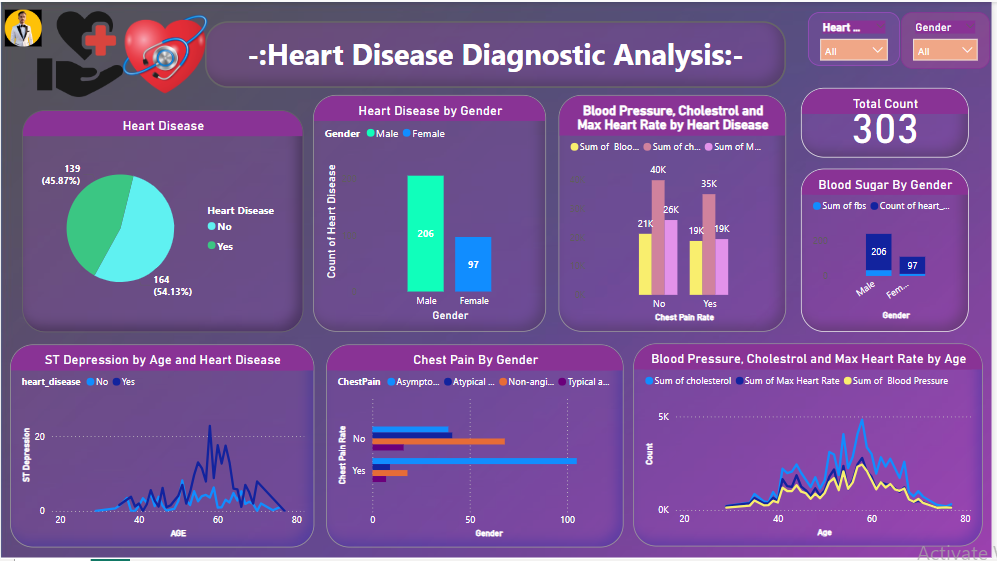

The dashboard page shown, as its layout file describes it:
{"tool":"powerbi","page":{"name":"Page 1","canvas":[1280,720],"ordinal":0},"visuals":[{"type":"slicer","fields":{"Values":["Heart_Disease_Diagnostic.Gender"]},"box":[1162.2,12.9,114.8,73.2],"z":0},{"type":"slicer","title":"Heart Disease","fields":{"Values":["Heart_Disease_Diagnostic.heart_disease"]},"box":[1043.1,12.9,119.1,68.9],"z":1000},{"type":"pieChart","title":"Heart Disease","fields":{"Category":["Heart_Disease_Diagnostic.heart_disease"],"Y":["CountNonNull(Heart_Disease_Diagnostic.heart_disease)"]},"box":[27.3,139.2,363,287],"z":2000},{"type":"lineChart","title":"ST Depression by Age and Heart Disease","fields":{"Category":["Heart_Disease_Diagnostic.age"],"Y":["Sum(Heart_Disease_Diagnostic.oldpeak)"],"Series":["Heart_Disease_Diagnostic.heart_disease"]},"box":[11.5,441.9,393.1,262.6],"z":3000},{"type":"clusteredBarChart","title":"Chest Pain By Gender","fields":{"Category":["Heart_Disease_Diagnostic.heart_disease"],"Y":["CountNonNull(Heart_Disease_Diagnostic.ChestPain)"],"Series":["Heart_Disease_Diagnostic.ChestPain"]},"box":[420.4,441.9,384.5,262.6],"z":4000},{"type":"columnChart","title":"Heart Disease by Gender","fields":{"Category":["Heart_Disease_Diagnostic.Gender"],"Series":["Heart_Disease_Diagnostic.Gender"],"Y":["CountNonNull(Heart_Disease_Diagnostic.heart_disease)"]},"box":[403.2,120.5,301.3,305.6],"z":5000},{"type":"card","title":"Total Count","fields":{"Values":["Heart_Disease_Diagnostic.Measure"]},"box":[1033,110.5,216.6,90.4],"z":6000},{"type":"lineChart","title":"Blood Pressure, Cholestrol and Max Heart Rate by Age","fields":{"Category":["Heart_Disease_Diagnostic.age"],"Y":["Sum(Heart_Disease_Diagnostic.cholesterol)","Sum(Heart_Disease_Diagnostic.Max Heart Rate)","Sum(Heart_Disease_Diagnostic. Blood Pressure)"]},"box":[816.4,440.5,451.9,262.6],"z":7000},{"type":"textbox","box":[264,24.4,750.4,86.1],"z":8000},{"type":"clusteredColumnChart","title":"Blood Pressure, Cholestrol and Max Heart Rate by Heart Disease","fields":{"Category":["Heart_Disease_Diagnostic.heart_disease"],"Y":["Sum(Heart_Disease_Diagnostic. Blood Pressure)","Sum(Heart_Disease_Diagnostic.cholesterol)","Sum(Heart_Disease_Diagnostic.Max Heart Rate)"]},"box":[720.2,120.5,294.1,305.6],"z":9000},{"type":"columnChart","title":"Blood Sugar By Gender","fields":{"Category":["Heart_Disease_Diagnostic.Gender"],"Y":["Sum(Heart_Disease_Diagnostic.fbs)","CountNonNull(Heart_Disease_Diagnostic.heart_disease)"]},"box":[1033,215.2,216.6,210.9],"z":10000},{"type":"image","box":[90.4,0,203.7,139.2],"z":10001},{"type":"image","box":[11.5,10,120.5,110.5],"z":10002}]}

Visuals, with their boxes in screenshot pixels (x1, y1, x2, y2), scaled from the page's 1280x720 canvas onto the 997x561 screenshot:
slicer - Heart_Disease_Diagnostic.Gender: (x1=905, y1=10, x2=995, y2=67)
"Heart Disease" slicer: (x1=812, y1=10, x2=905, y2=64)
"Heart Disease" pieChart: (x1=21, y1=108, x2=304, y2=332)
"ST Depression by Age and Heart Disease" lineChart: (x1=9, y1=344, x2=315, y2=549)
"Chest Pain By Gender" clusteredBarChart: (x1=327, y1=344, x2=627, y2=549)
"Heart Disease by Gender" columnChart: (x1=314, y1=94, x2=549, y2=332)
"Total Count" card: (x1=805, y1=86, x2=973, y2=157)
"Blood Pressure, Cholestrol and Max Heart Rate by Age" lineChart: (x1=636, y1=343, x2=988, y2=548)
textbox: (x1=206, y1=19, x2=790, y2=86)
"Blood Pressure, Cholestrol and Max Heart Rate by Heart Disease" clusteredColumnChart: (x1=561, y1=94, x2=790, y2=332)
"Blood Sugar By Gender" columnChart: (x1=805, y1=168, x2=973, y2=332)
image: (x1=70, y1=0, x2=229, y2=108)
image: (x1=9, y1=8, x2=103, y2=94)
